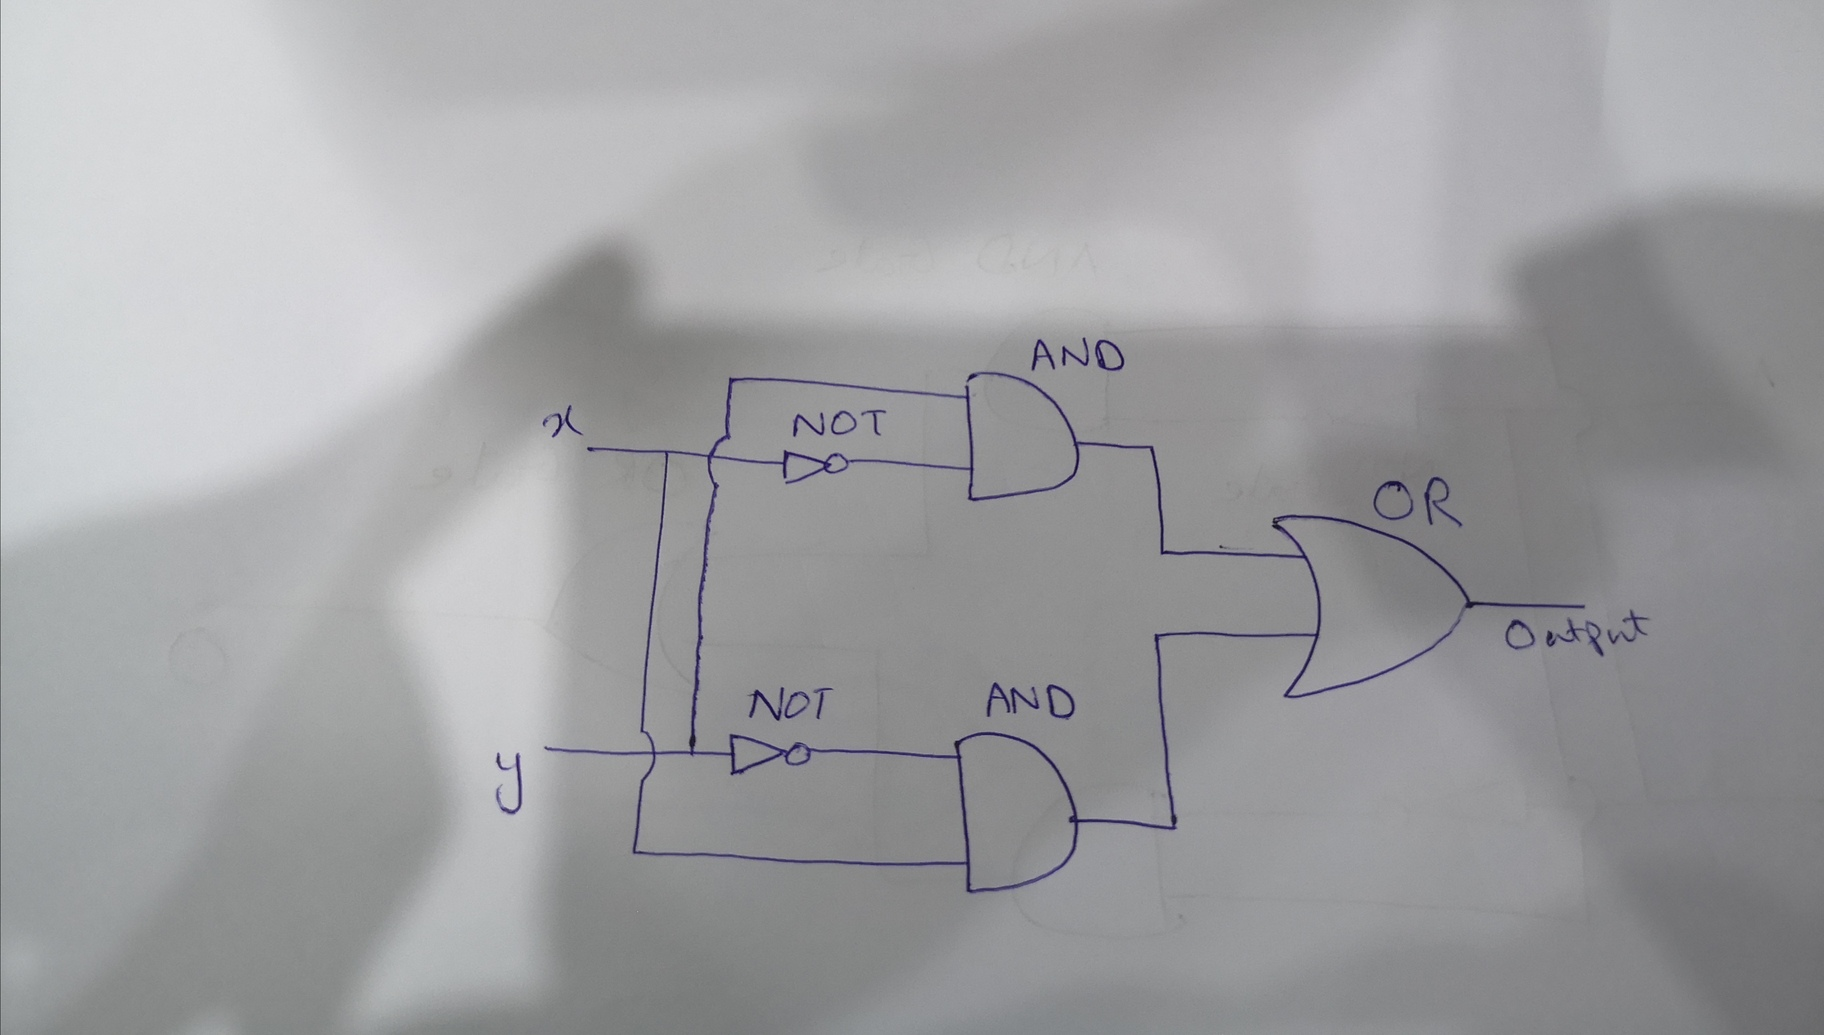and: (950, 727, 1082, 902), (958, 368, 1091, 505)
crossover: (702, 430, 734, 491), (631, 726, 661, 784)
junction: (1150, 540, 1178, 565), (1161, 813, 1186, 840), (1136, 435, 1164, 457), (625, 840, 645, 860), (722, 368, 742, 388), (681, 743, 703, 761), (654, 444, 674, 461), (1148, 627, 1165, 644)
not: (724, 726, 811, 781), (775, 444, 852, 487)
or: (1267, 505, 1476, 710)
terminal: (578, 440, 598, 457), (539, 741, 556, 757), (1573, 599, 1593, 613)
text: (1502, 606, 1654, 659), (1371, 472, 1469, 533), (981, 675, 1079, 724), (1025, 335, 1130, 376), (787, 403, 889, 444), (742, 684, 836, 726), (490, 748, 529, 818), (540, 405, 585, 439)
